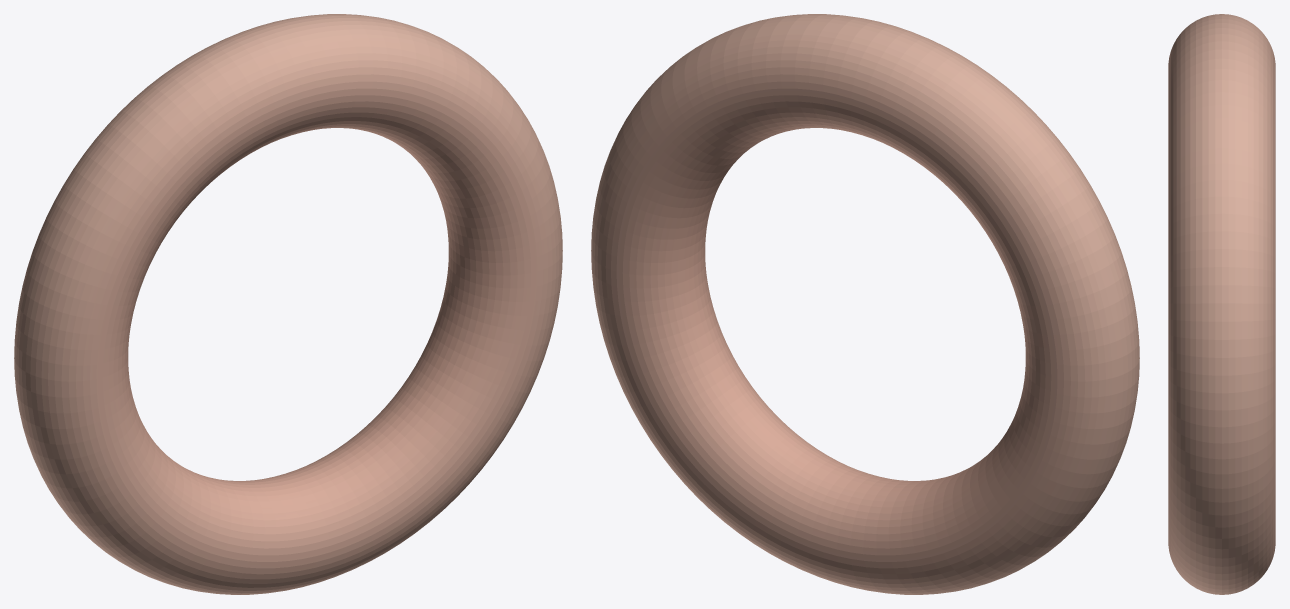
3 renders of one model, left to right at view 1: azimuth 30°, elevation 25°; view 2: azimuth 150°, elevation 25°; view 3: azimuth 270°, elevation 25°, orthographic. The views are drawn at different scales.
Parts seen in each view (by area): view 1: world; view 2: world; view 3: world.
Part boxes in pixels (x1,y1,x2,y2): world: (14, 14, 562, 594); world: (591, 14, 1139, 594); world: (1168, 14, 1275, 594).
Bounding box in the file's own units: 18 × 18 × 3.33.
